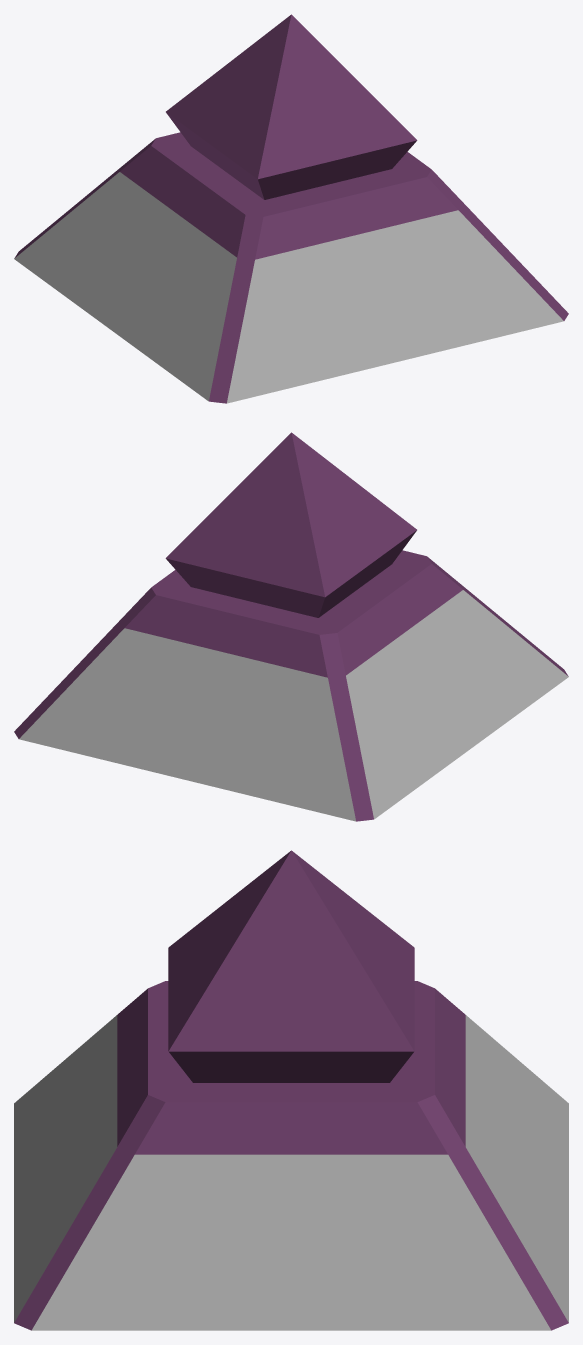
File: PyramidMonster.fbx
3 renders of one model, top to bottom at view 1: azimuth 30°, elevation 25°; view 2: azimuth 150°, elevation 25°; view 3: azimuth 270°, elevation 25°, orthographic. The views are drawn at different scales.
Parts seen in each view (by area): view 1: Pyramid; view 2: Pyramid; view 3: Pyramid.
Boxes of the visible parts, left/top/right/bottom form: Pyramid: left=14, top=14, right=568, bottom=403; Pyramid: left=14, top=432, right=568, bottom=821; Pyramid: left=14, top=850, right=568, bottom=1330.
Size of the model in its own units: 1.1 by 0.7925 by 1.1.
